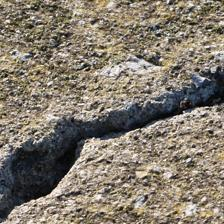Crack: (3, 39, 212, 175)
